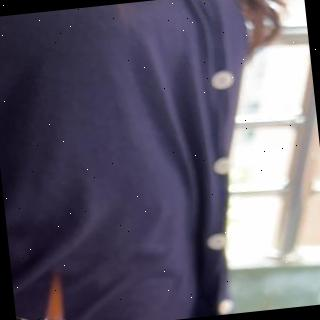fire: (36, 270, 75, 320)
